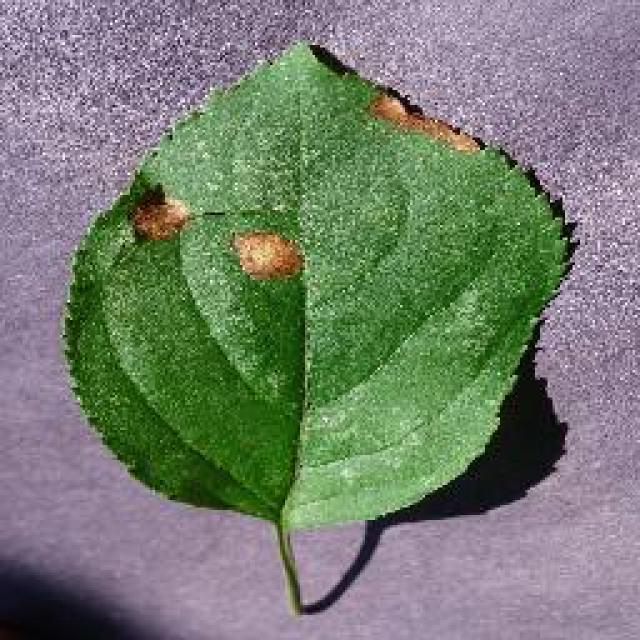apple healthy: (58, 35, 580, 613)
